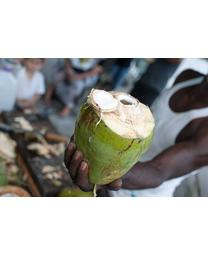coconut: (72, 88, 155, 185)
